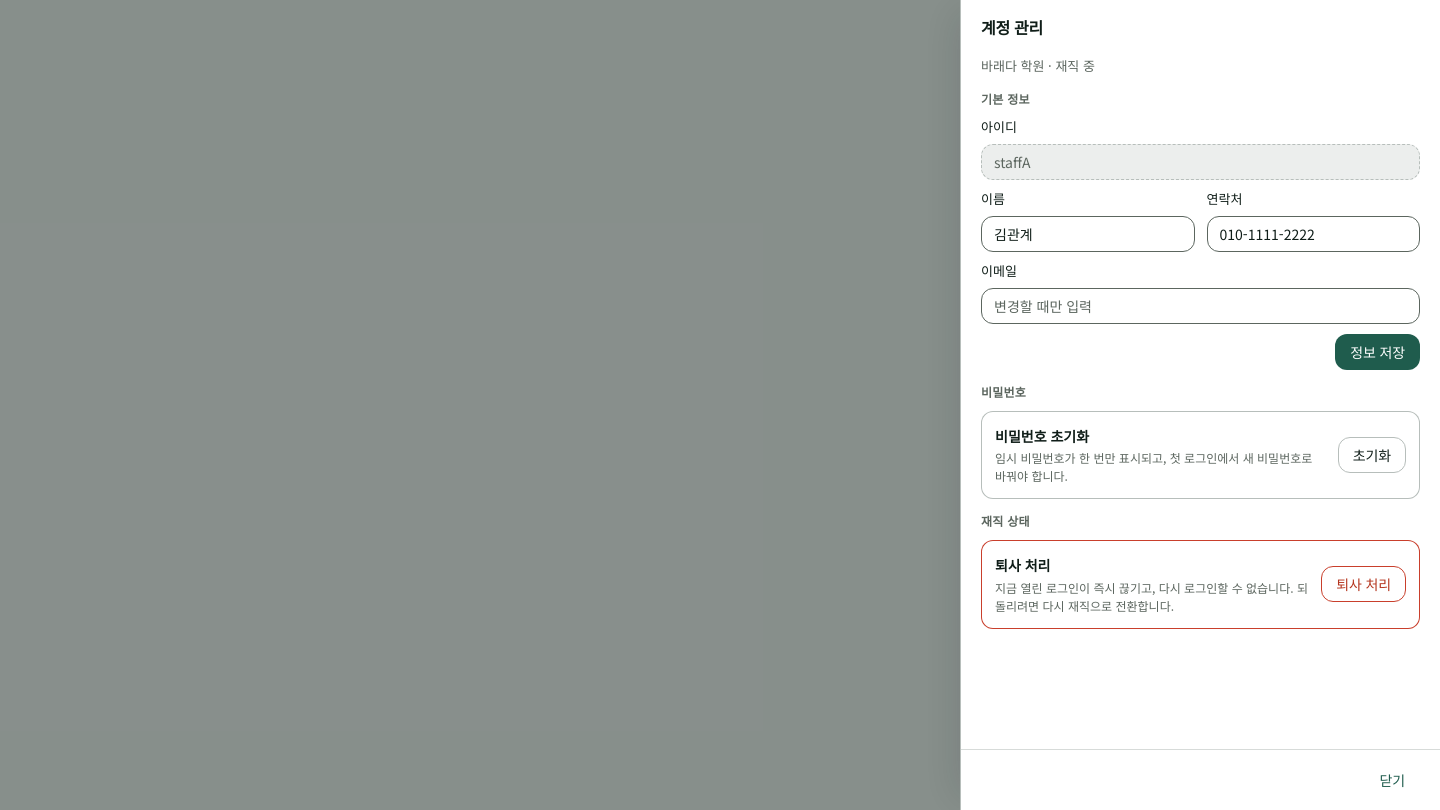
Test case: MemberAccountFormDialog — 확인·성공 표시·빈 값 › 승인 대기 가입 요청이 없으면 그 건수를 지어내지 않는다
Click the button "퇴사 처리" at (1364, 584), box [1321,566,1406,602]
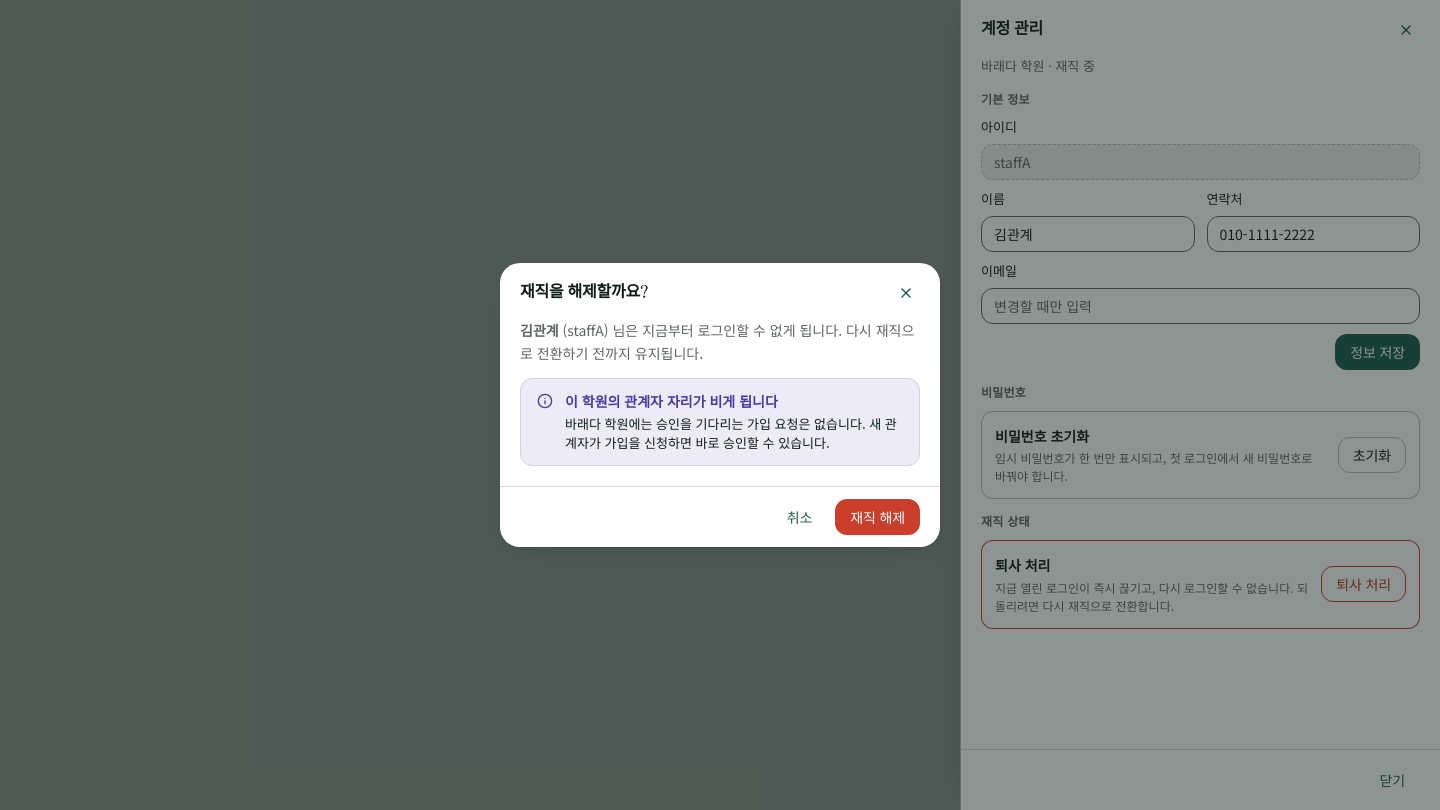
Now the text "승인을 기다리는 가입 요청은 없습니다" is shown, box [565,414,897,452]
